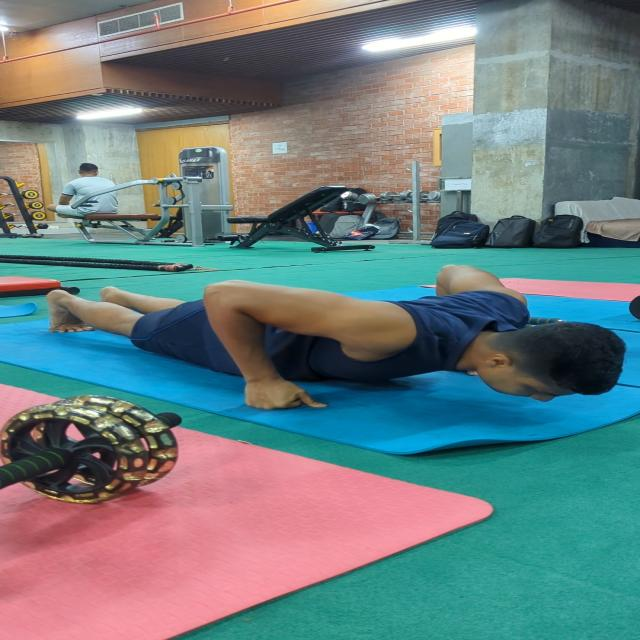Normal_PushUps: (30, 258, 631, 414)
